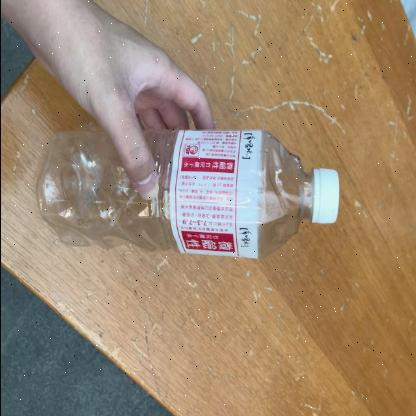Plastic Bottle: (36, 132, 338, 258)
